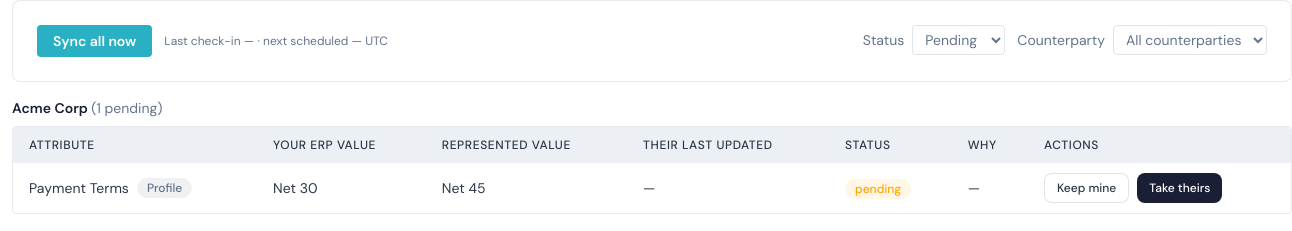
Test case: CounterpartyUpdatesTab › a 409 on decide reverts the row and toasts
Expected: the text "Payment Terms" is shown, [29,178,129,198]
Click the button "Keep mine" at (1087, 188), box [1044,173,1129,203]
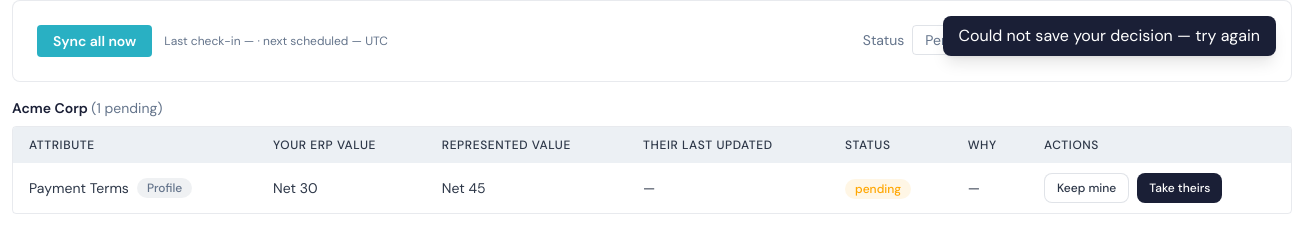
Expected: the text "pending" is shown, [845,178,911,198]
Expected: the text "Could not save your decision — try again" is shown, [942,16,1276,56]
